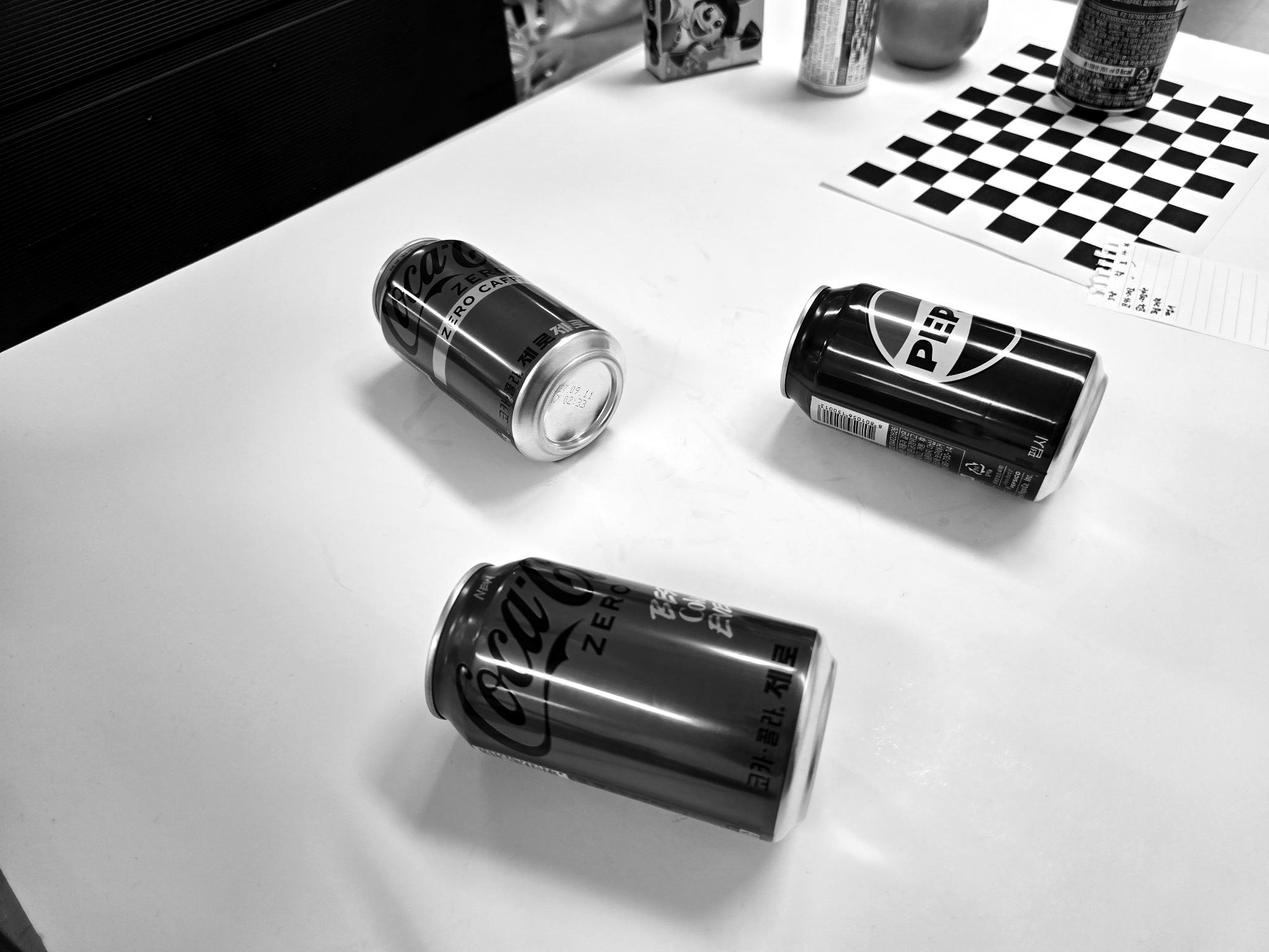can_coke_decaf: (374, 238, 624, 461)
can_coke_zero: (426, 558, 835, 841)
can_pepsi: (781, 284, 1106, 499)
